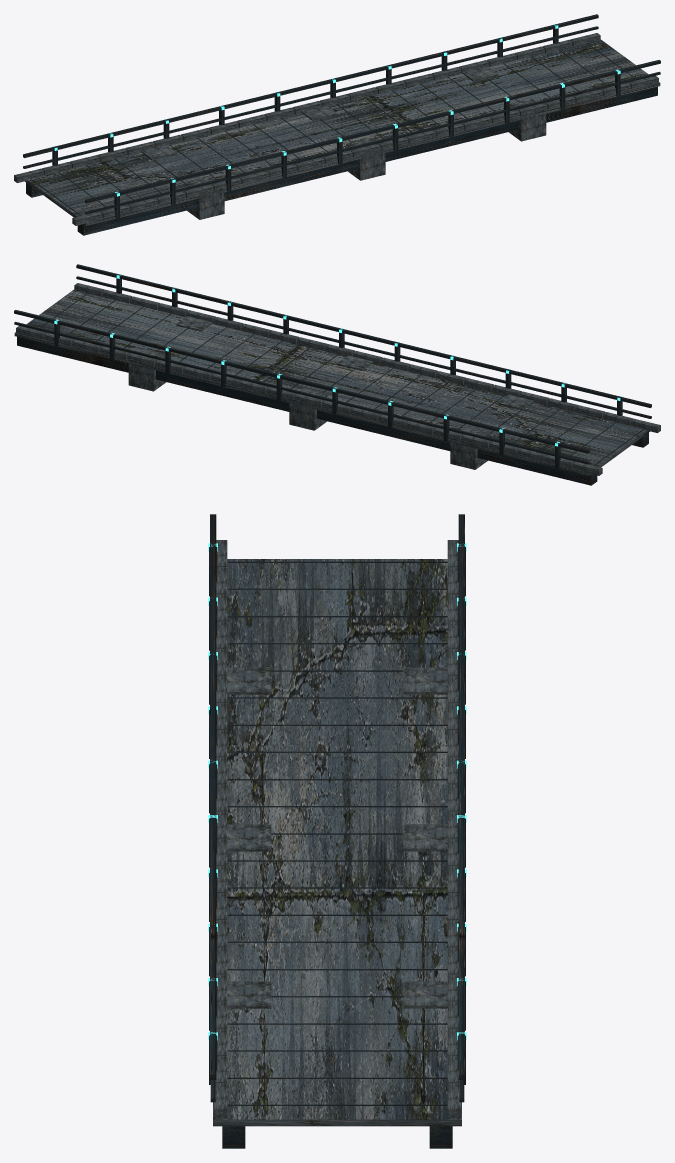
Rendered from small-bridge.glb.
The picture shows the model from 3 angles, top to bottom: view 1: azimuth 30°, elevation 25°; view 2: azimuth 150°, elevation 25°; view 3: azimuth 270°, elevation 25°; orthographic projection. The views are drawn at different scales.
Visible parts, largest first — view 1: small-bridge-concrete, small-bridge-steel, small-bridge-lamp; view 2: small-bridge-concrete, small-bridge-steel, small-bridge-lamp; view 3: small-bridge-concrete, small-bridge-steel.
Part boxes in pixels (x1,y1,x2,y2): small-bridge-concrete: (14, 33, 660, 225); small-bridge-steel: (23, 14, 660, 235); small-bridge-lamp: (52, 24, 620, 196); small-bridge-concrete: (14, 283, 660, 475); small-bridge-steel: (14, 264, 651, 485); small-bridge-lamp: (54, 274, 622, 446); small-bridge-concrete: (213, 540, 461, 1126); small-bridge-steel: (209, 514, 465, 1148).
Bounding box in the file's own units: 32.55 × 2.52 × 6.23.
Materials: 3 (2 with a texture image).
